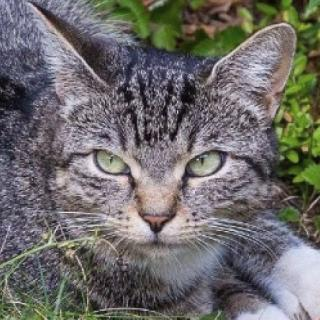cat: (26, 0, 301, 274)
nose: (131, 188, 182, 235)
